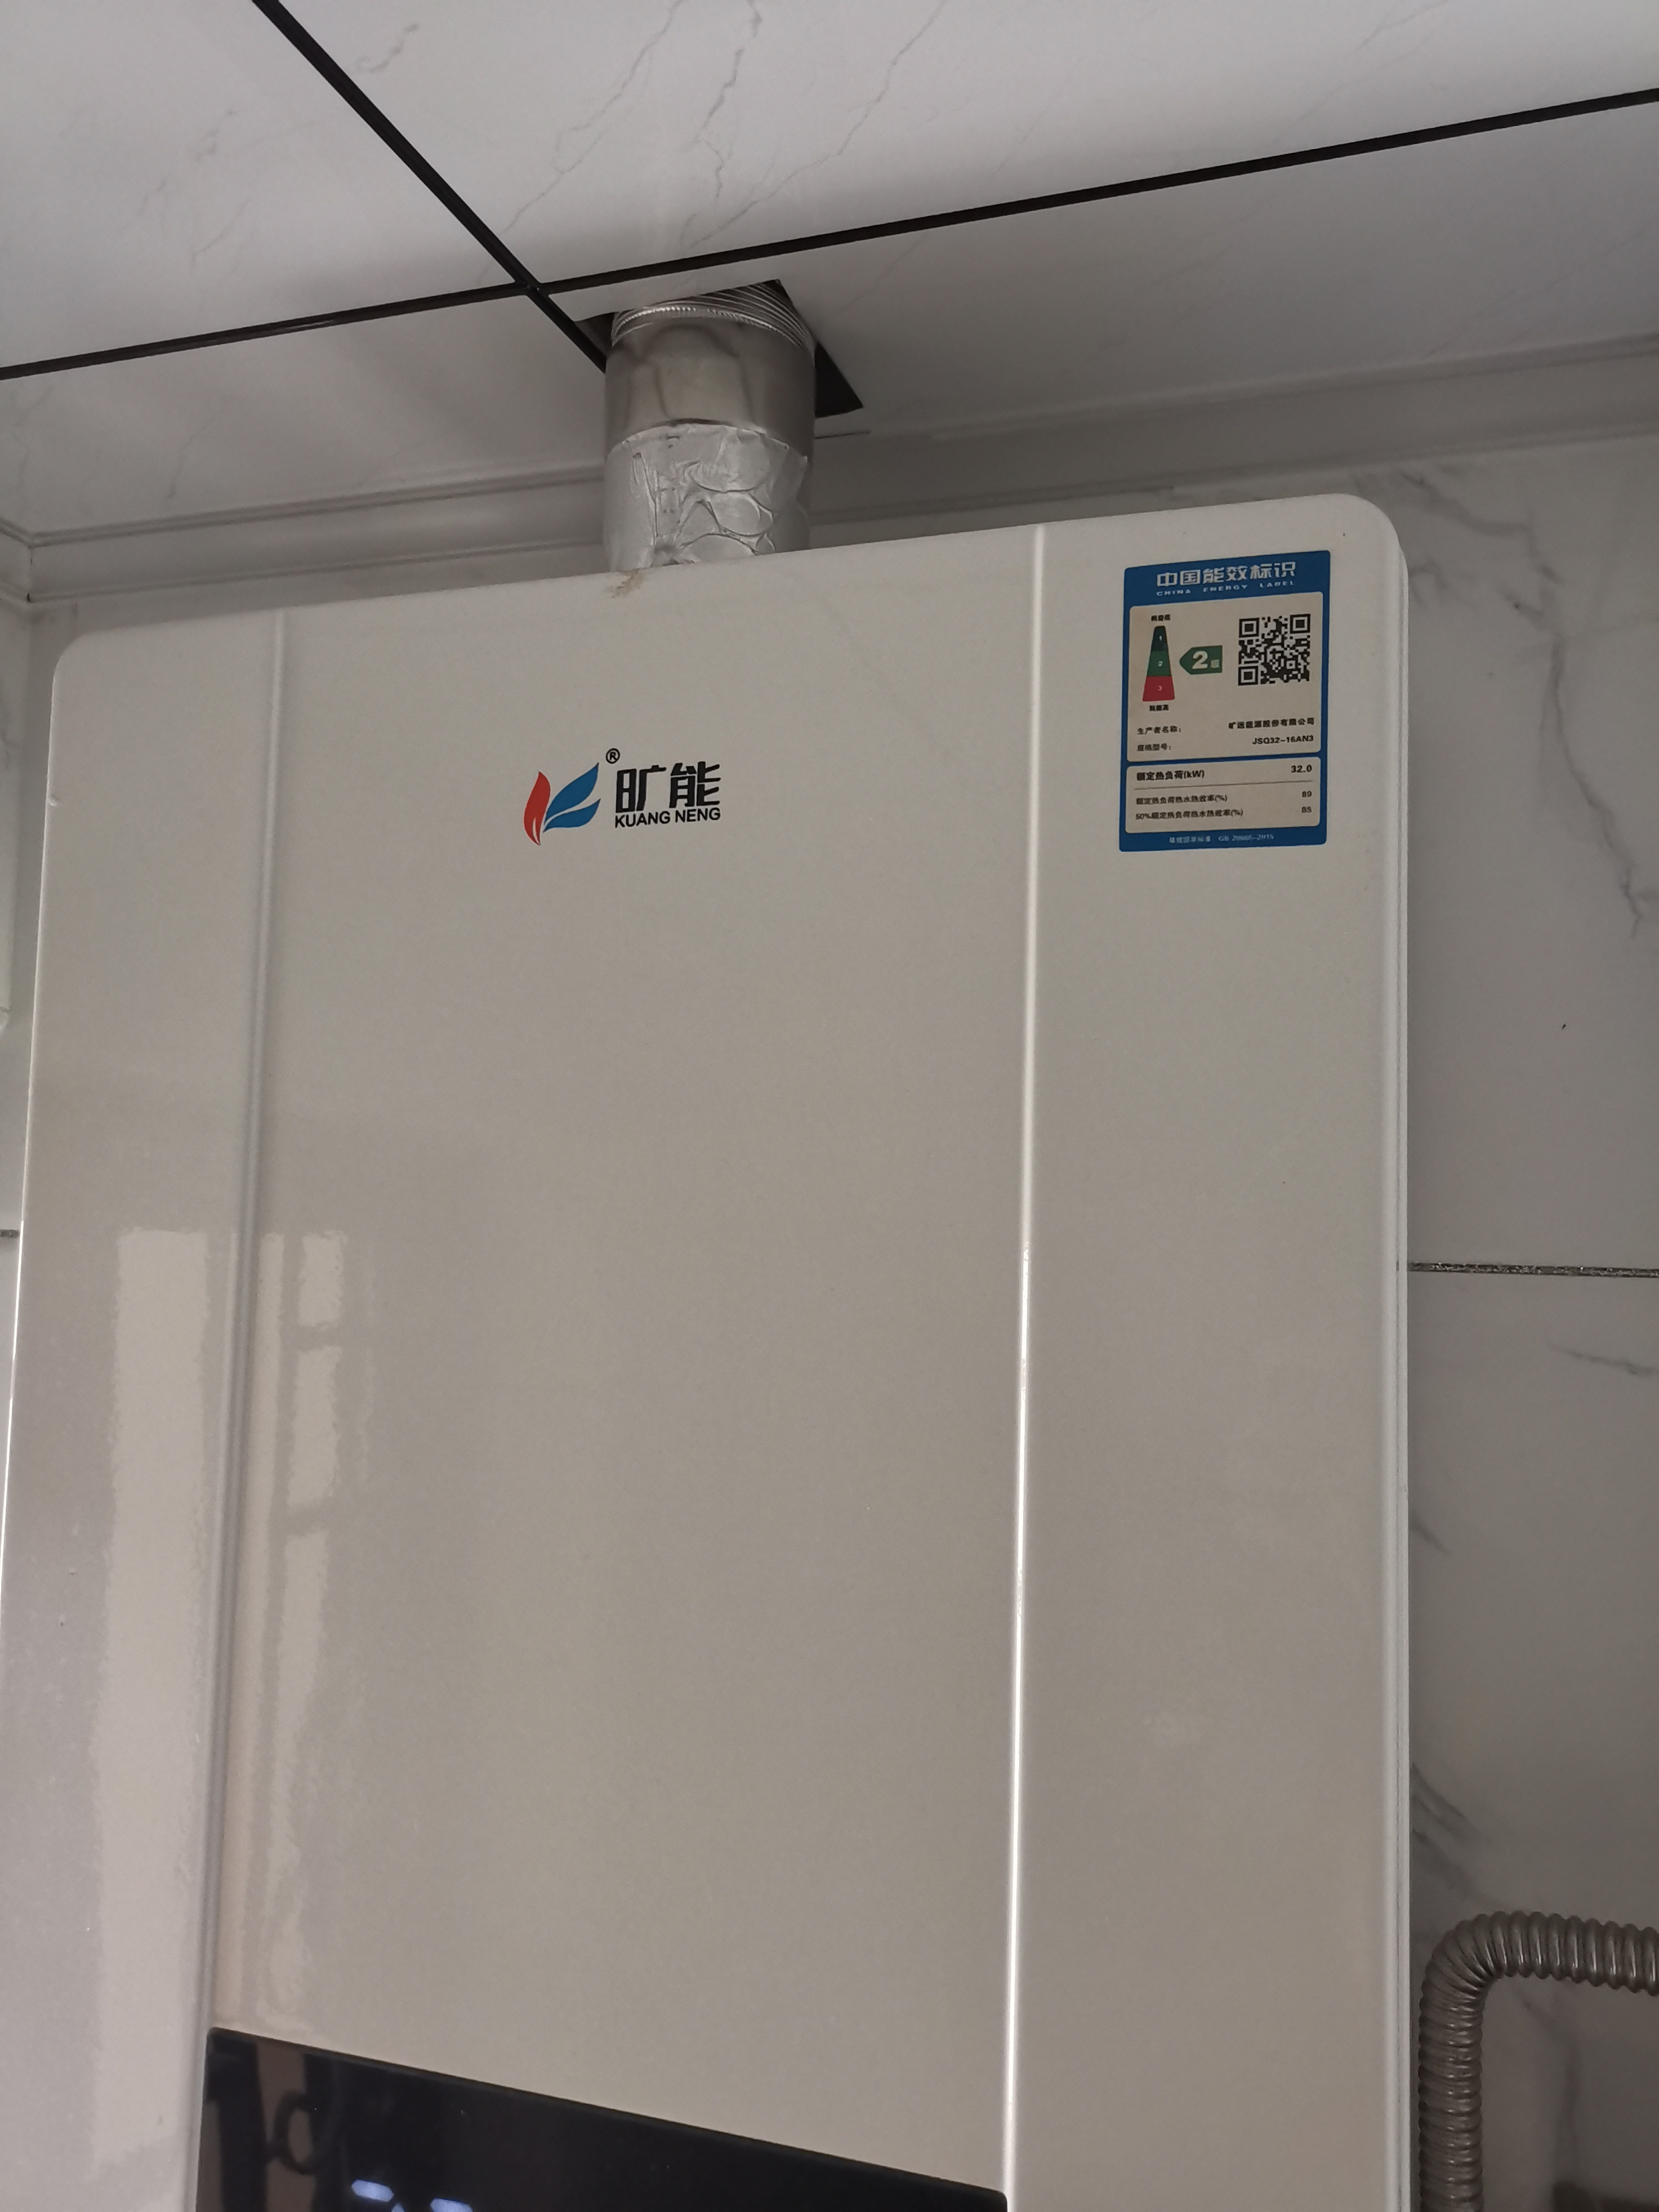loudou: (509, 740, 746, 853)
